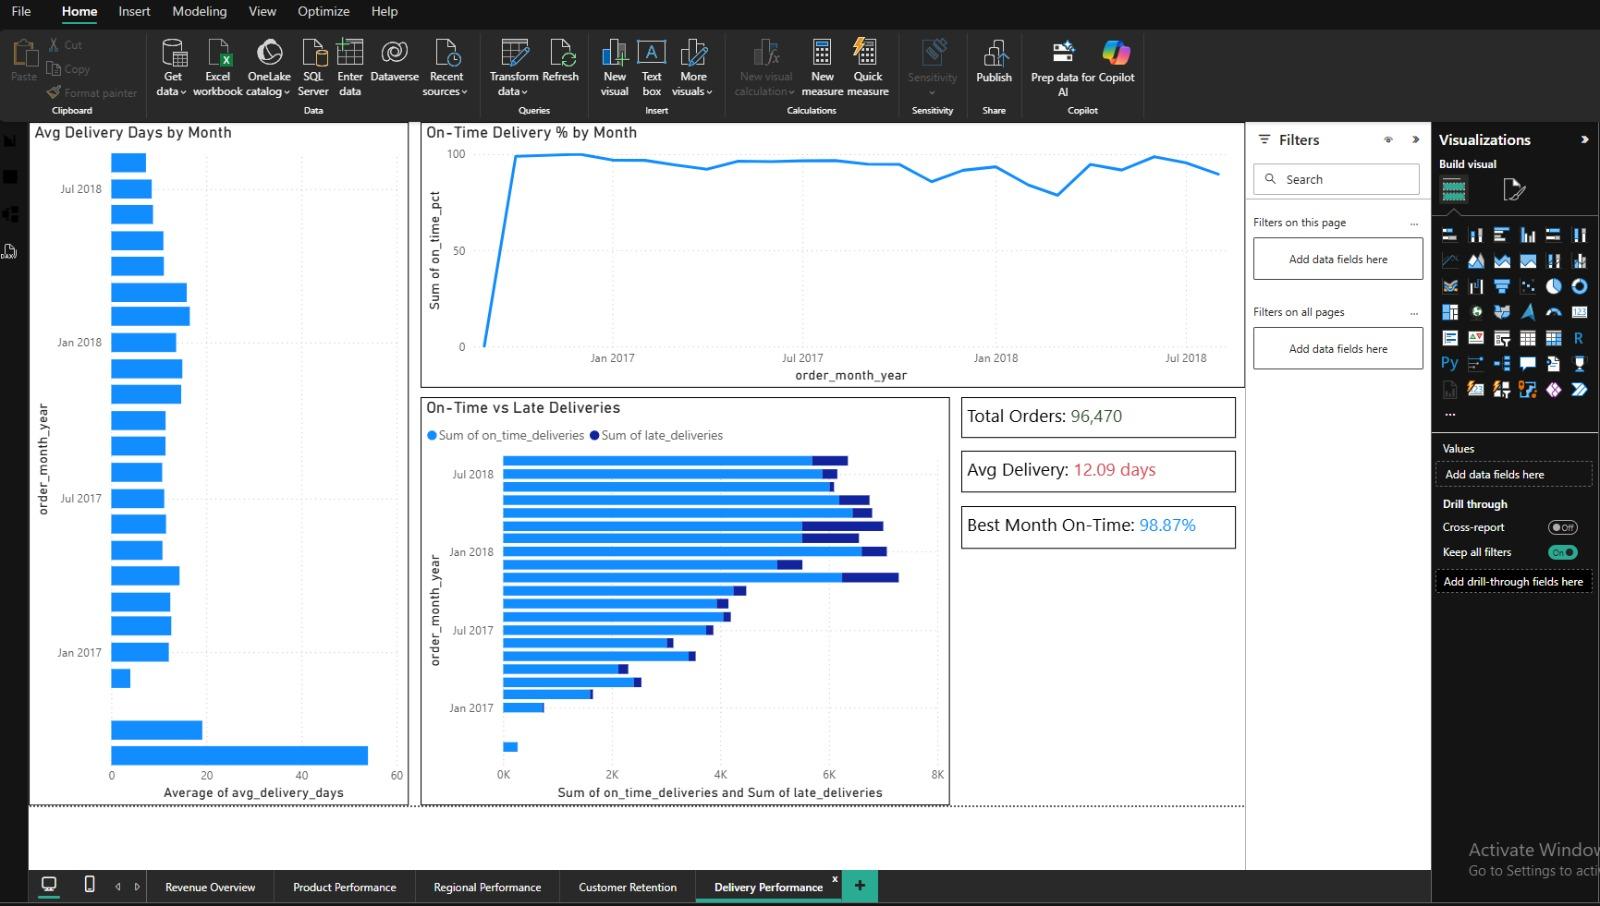

This screenshot's page, from the dashboard's own definition file:
{"tool":"powerbi","page":{"name":"Delivery Performance","canvas":[1280,720],"ordinal":4},"visuals":[{"type":"lineChart","title":"On-Time Delivery % by Month","fields":{"Category":["kpi_delivery_performance.order_month_year"],"Y":["Sum(kpi_delivery_performance.on_time_pct)"]},"box":[412.5,0,867.5,280.5],"z":0},{"type":"clusteredBarChart","title":"Avg Delivery Days by Month","fields":{"Category":["kpi_delivery_performance.order_month_year"],"Y":["Avg(kpi_delivery_performance.avg_delivery_days)"]},"box":[0,0,400.1,720.4],"z":1},{"type":"textbox","box":[981.7,290.1,288.7,42.6],"z":2},{"type":"textbox","box":[981.7,346.5,288.7,44],"z":3},{"type":"textbox","box":[981.7,404.2,288.7,45.4],"z":4},{"type":"barChart","title":"On-Time vs Late Deliveries","fields":{"Category":["kpi_delivery_performance.order_month_year"],"Y":["Sum(kpi_delivery_performance.on_time_deliveries)","Sum(kpi_delivery_performance.late_deliveries)"]},"box":[412.5,290.1,556.8,430.3],"z":5}]}

Visuals, with their boxes on the page's 1280x720 design canvas (x1, y1, x2, y2). These are canvas units, not pixel positions in the 1600x906 screenshot, which may show the page scaled, cropped or inside an application window:
"On-Time Delivery % by Month" lineChart: (412, 0, 1280, 280)
"Avg Delivery Days by Month" clusteredBarChart: (0, 0, 400, 720)
textbox: (982, 290, 1270, 333)
textbox: (982, 346, 1270, 390)
textbox: (982, 404, 1270, 450)
"On-Time vs Late Deliveries" barChart: (412, 290, 969, 720)
